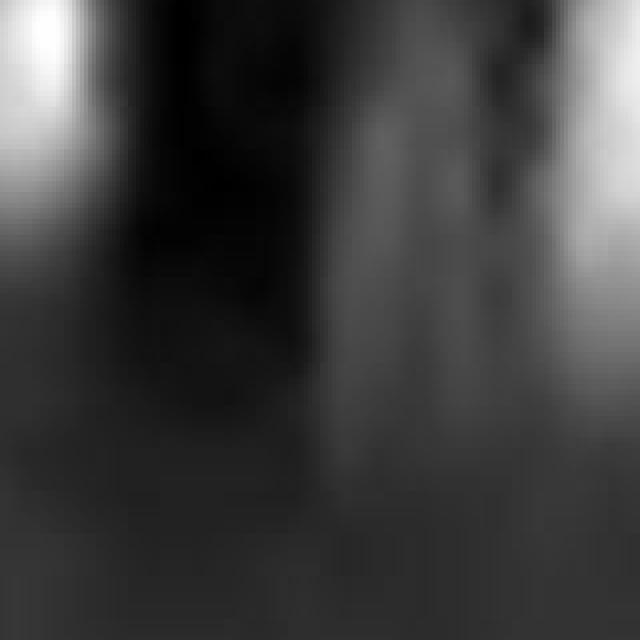person: (309, 1, 501, 502), (1, 1, 141, 300), (545, 1, 640, 422)
